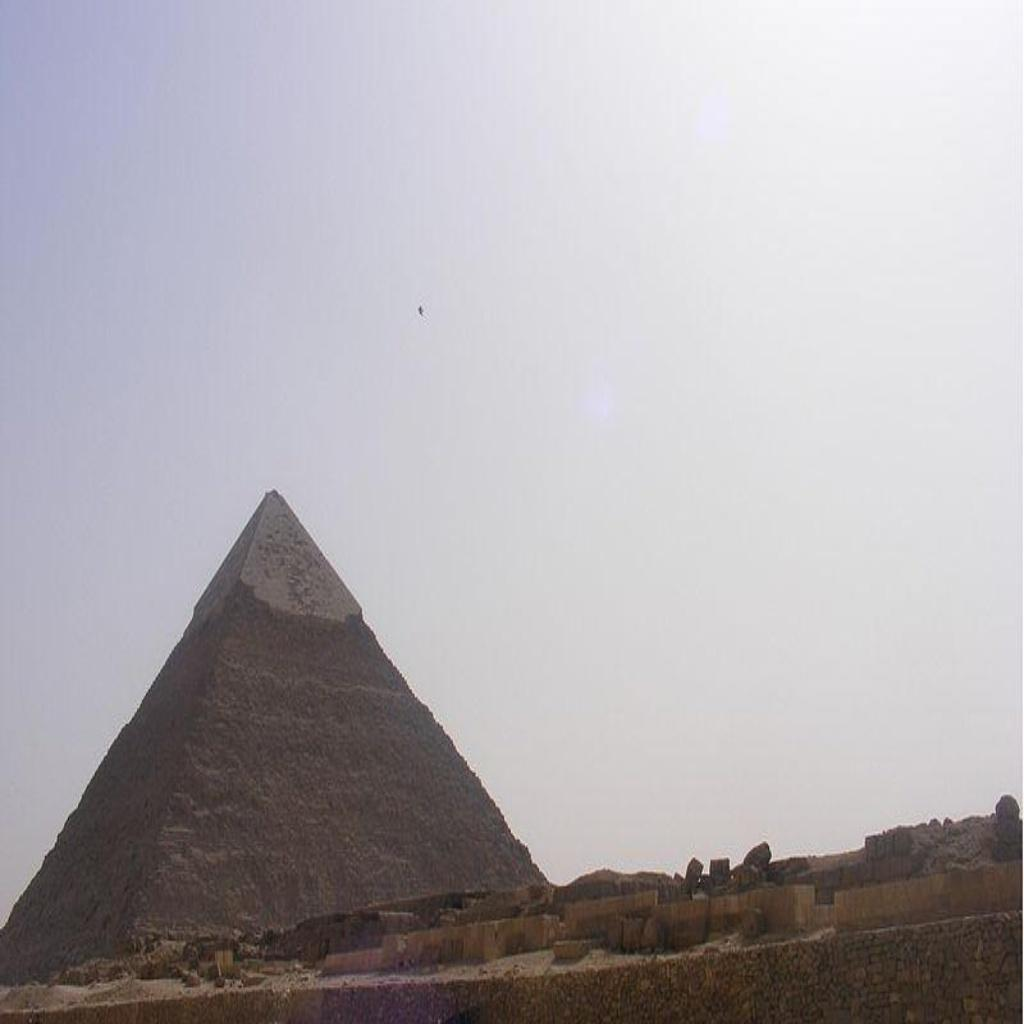Great Pyramids of Giza: (1, 484, 553, 986)
